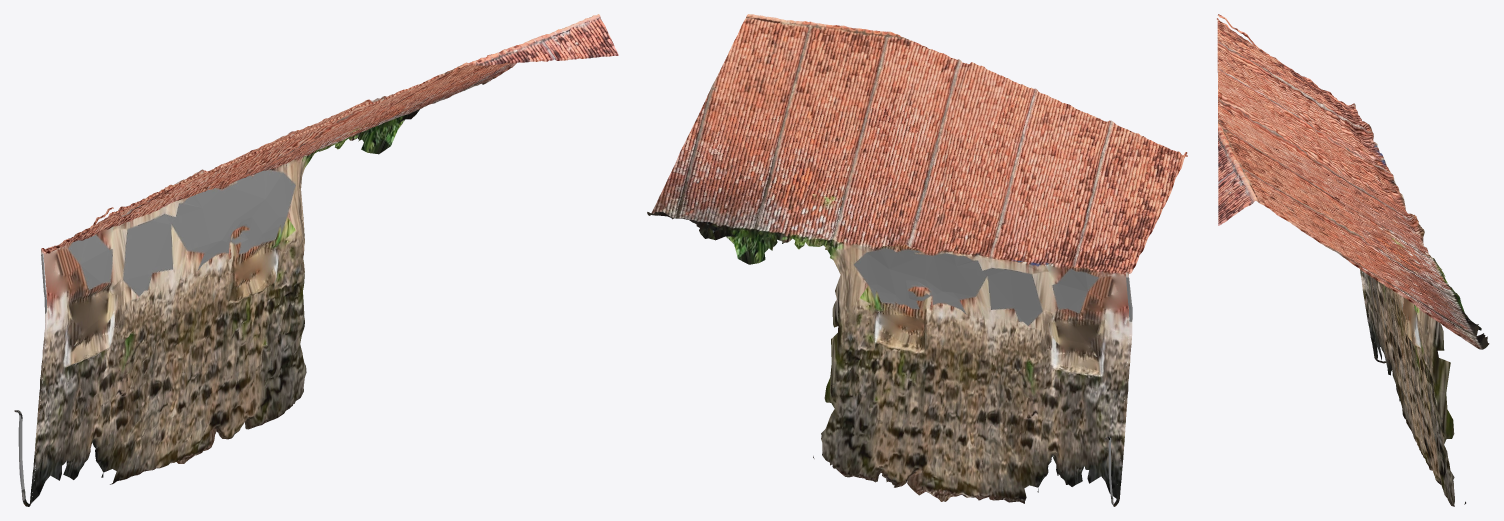
3 renders of one model, left to right at view 1: azimuth 30°, elevation 25°; view 2: azimuth 150°, elevation 25°; view 3: azimuth 270°, elevation 25°, orthographic. The views are drawn at different scales.
Parts seen in each view (by area): view 1: node_31; view 2: node_31; view 3: node_31.
Part boxes in pixels (x1,y1,x2,y2): node_31: (14, 14, 618, 506); node_31: (647, 14, 1187, 506); node_31: (1217, 14, 1489, 506).
Bounding box in the file's own units: 23.19 × 19.25 × 11.19.
1 material, 1 textured.
